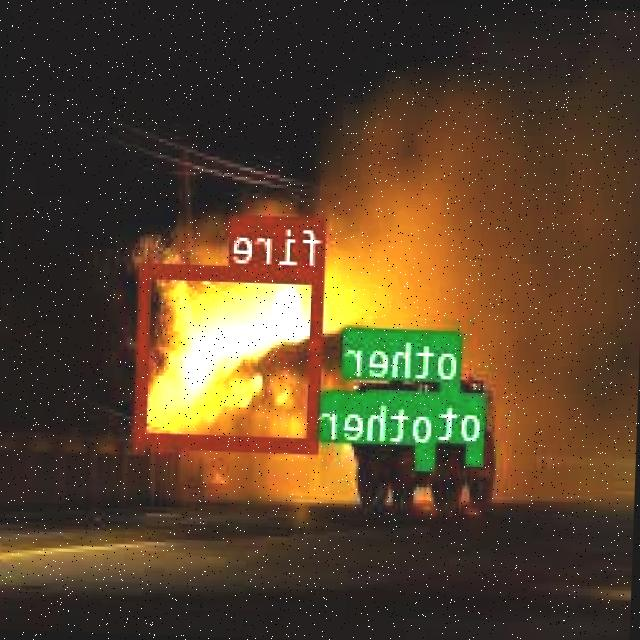fire: (137, 262, 325, 450)
